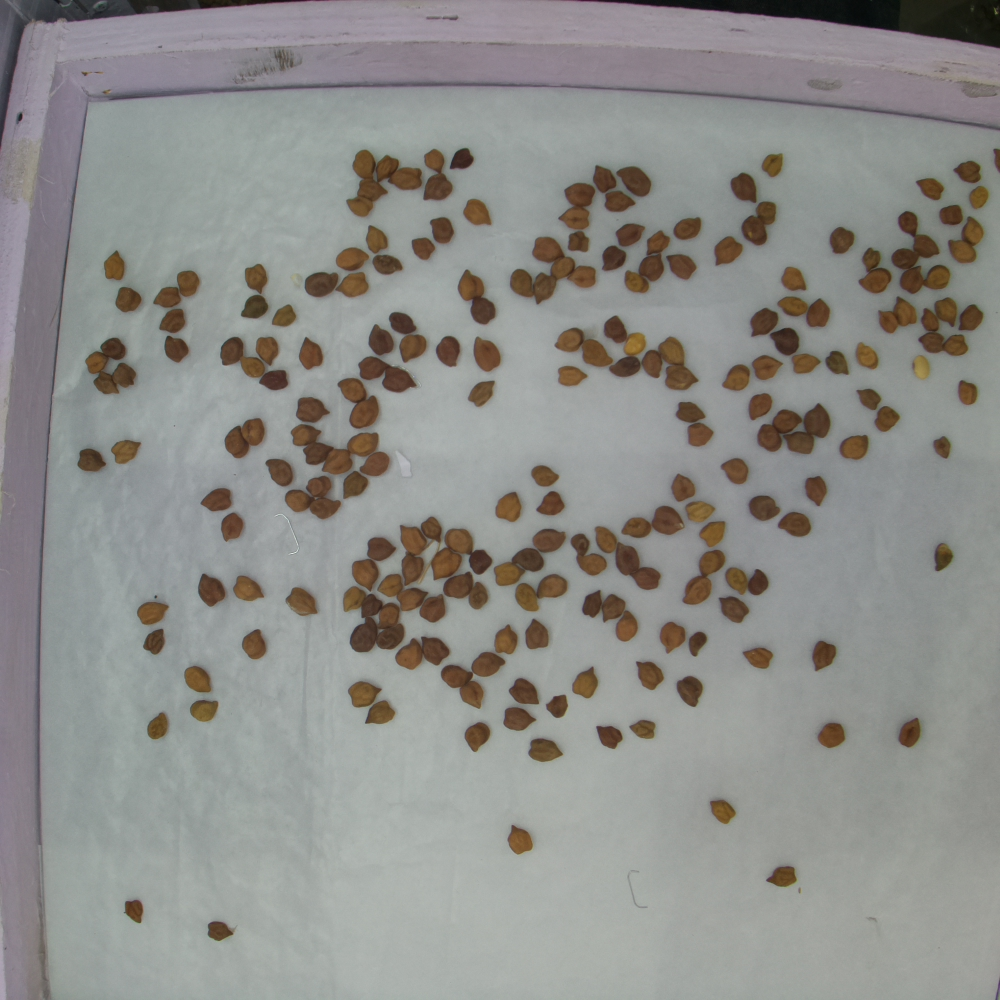desichanna: (283, 584, 323, 621), (345, 674, 391, 706), (452, 722, 499, 753), (615, 162, 658, 195), (379, 356, 415, 395), (486, 619, 521, 659), (232, 292, 274, 325), (667, 395, 712, 425), (670, 672, 709, 706), (459, 198, 499, 231), (749, 357, 794, 386), (497, 707, 542, 736), (427, 210, 459, 250), (339, 269, 380, 300), (717, 365, 759, 395), (527, 734, 567, 765), (362, 325, 402, 356), (297, 395, 332, 430), (712, 592, 749, 625), (512, 581, 545, 618), (180, 665, 220, 695), (506, 675, 542, 707), (656, 334, 692, 366), (814, 716, 845, 753), (329, 239, 367, 269), (576, 339, 618, 366), (299, 271, 341, 298), (744, 303, 777, 337), (712, 459, 752, 487), (218, 424, 255, 454), (809, 637, 838, 675), (676, 425, 718, 451), (467, 653, 506, 681), (358, 701, 400, 727), (947, 233, 980, 266), (802, 404, 835, 437), (505, 822, 536, 857), (655, 618, 686, 653), (386, 306, 426, 333), (99, 251, 136, 280), (345, 616, 373, 654), (612, 613, 645, 645), (533, 525, 566, 557), (926, 254, 953, 293), (835, 434, 871, 463), (774, 512, 812, 539), (665, 365, 703, 392), (568, 665, 599, 698), (239, 627, 270, 660), (517, 618, 553, 646), (435, 337, 471, 365), (770, 325, 802, 356), (142, 709, 174, 740), (533, 236, 564, 268), (897, 715, 927, 748), (612, 353, 642, 386), (406, 227, 436, 260), (603, 593, 629, 631), (341, 401, 382, 425), (373, 253, 409, 280), (599, 316, 636, 342), (135, 595, 167, 625), (423, 171, 453, 203), (473, 339, 502, 372), (571, 553, 609, 578), (185, 696, 223, 721), (761, 866, 802, 889), (655, 507, 686, 537), (621, 268, 652, 298), (912, 174, 944, 203), (633, 660, 665, 689), (350, 557, 382, 586), (336, 372, 368, 401), (462, 296, 499, 321), (355, 451, 395, 474), (445, 146, 480, 172), (741, 646, 777, 671), (456, 680, 486, 710), (399, 524, 429, 554), (727, 172, 758, 201), (747, 390, 773, 424), (677, 578, 712, 603), (612, 540, 635, 578), (284, 422, 322, 445), (709, 798, 739, 827), (420, 633, 449, 663), (430, 550, 459, 580), (712, 236, 741, 266), (218, 336, 247, 366), (299, 337, 327, 368), (695, 548, 727, 575), (553, 366, 594, 387), (306, 501, 347, 522), (394, 636, 420, 669), (238, 416, 271, 442), (783, 430, 820, 453), (235, 574, 264, 603), (218, 513, 247, 542), (805, 472, 829, 507), (952, 159, 983, 186), (538, 572, 570, 598), (535, 492, 567, 518), (368, 539, 400, 565), (402, 334, 428, 366), (392, 587, 423, 613), (550, 325, 582, 350), (894, 292, 918, 325), (858, 271, 891, 295), (741, 212, 765, 245), (342, 472, 370, 500), (324, 448, 353, 475), (561, 181, 595, 204), (726, 566, 752, 596), (635, 563, 661, 593), (615, 516, 652, 537), (808, 298, 830, 333), (394, 163, 426, 187), (774, 295, 812, 315), (438, 663, 471, 686), (591, 160, 614, 193), (780, 266, 808, 293), (595, 724, 624, 750), (577, 589, 603, 618), (139, 627, 168, 653), (749, 496, 779, 521), (558, 206, 592, 228), (302, 442, 333, 466), (641, 350, 668, 377), (667, 253, 694, 280), (824, 227, 852, 253), (853, 387, 882, 412), (467, 581, 492, 610), (242, 263, 267, 292), (697, 521, 727, 545), (465, 380, 495, 404), (345, 584, 368, 615), (77, 451, 108, 474), (930, 545, 956, 572), (959, 303, 985, 330), (853, 343, 880, 369), (199, 577, 226, 603), (967, 184, 992, 212), (788, 354, 823, 374), (442, 575, 477, 595), (91, 372, 120, 396), (162, 336, 191, 360), (114, 287, 144, 310), (345, 433, 383, 451), (265, 453, 289, 481), (152, 312, 189, 330), (671, 218, 706, 237), (514, 550, 544, 572), (355, 356, 385, 378), (374, 575, 405, 596), (895, 210, 920, 236), (362, 593, 388, 618), (509, 268, 535, 293), (941, 333, 968, 357), (897, 265, 924, 289), (202, 489, 229, 513), (936, 206, 970, 225), (639, 257, 667, 280), (547, 692, 567, 724), (770, 409, 799, 431), (441, 528, 476, 546), (358, 227, 388, 248), (876, 406, 902, 430), (823, 346, 847, 372), (759, 427, 783, 453), (282, 489, 308, 513), (455, 271, 483, 293), (274, 306, 302, 328), (626, 718, 655, 739), (379, 628, 408, 649), (959, 377, 979, 407), (936, 298, 959, 324), (495, 495, 518, 521), (403, 554, 421, 587), (686, 501, 715, 521), (671, 474, 691, 503), (173, 272, 202, 292), (82, 346, 108, 368), (909, 351, 930, 378), (112, 442, 139, 463), (918, 330, 941, 354), (265, 366, 288, 390), (359, 181, 388, 200), (111, 365, 136, 387), (123, 898, 144, 924), (917, 304, 938, 330), (100, 331, 121, 357), (421, 145, 442, 171), (594, 524, 612, 554), (153, 289, 180, 309), (492, 565, 520, 584), (605, 190, 633, 209), (602, 245, 624, 269), (352, 153, 374, 177), (532, 275, 549, 306), (961, 218, 982, 243), (915, 234, 936, 259), (749, 568, 770, 593), (379, 604, 394, 639), (255, 336, 280, 357), (423, 595, 441, 624), (877, 312, 900, 334), (686, 633, 708, 656), (645, 231, 668, 253), (345, 193, 370, 213), (570, 268, 597, 286), (553, 257, 574, 280), (208, 921, 233, 940), (305, 477, 330, 496), (889, 250, 918, 266), (759, 198, 779, 221), (761, 153, 782, 174), (244, 357, 265, 378), (421, 519, 445, 537), (859, 250, 879, 271), (935, 436, 952, 460), (617, 224, 642, 240), (532, 469, 556, 484), (568, 233, 589, 250), (624, 334, 642, 353), (570, 536, 589, 553), (471, 550, 485, 571), (376, 154, 397, 168), (989, 145, 1000, 167)
